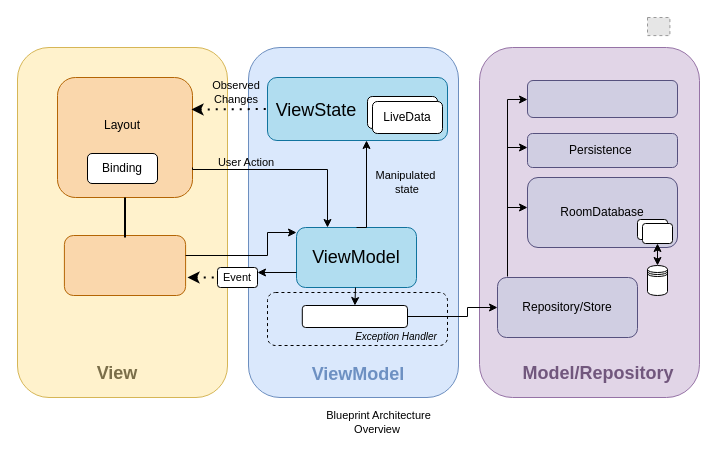
Some shapes in this 717 by 455 pixel diagram are drawn without their labels. Grey dashed boxes stand in for pictures. Here are the shapes that lost their labels. From the top down, the box of each, then its label:
(526, 80, 678, 118): ApiService
(642, 222, 672, 244): Dao
(63, 234, 186, 296): Activity
(301, 304, 408, 328): Request Manager
